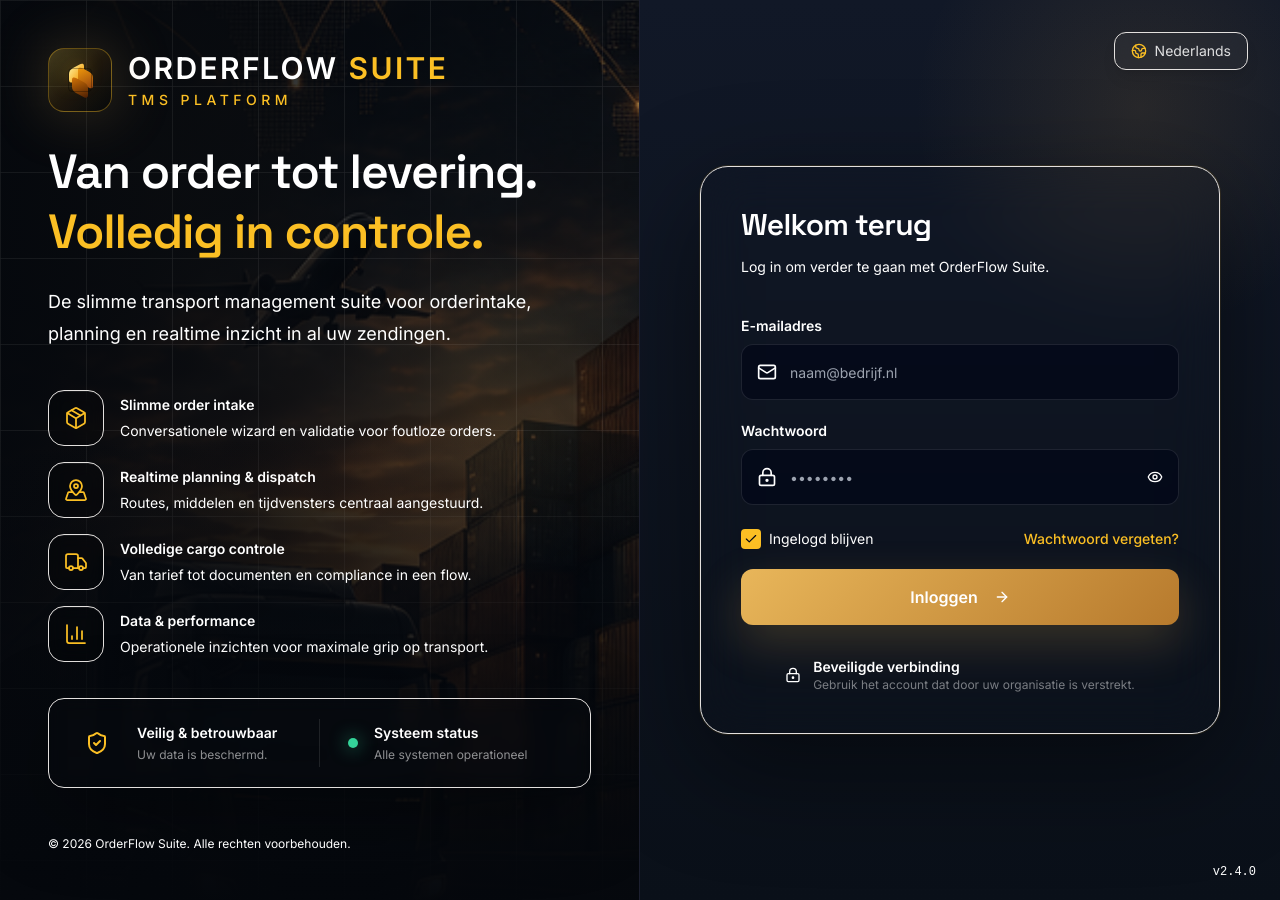
Scenario: Login › shows error on failed login
The image size is (1280, 900).
Type "bad@test.nl" into the field labelled "E-mailadres" at (960, 372), box [741, 344, 1179, 400]
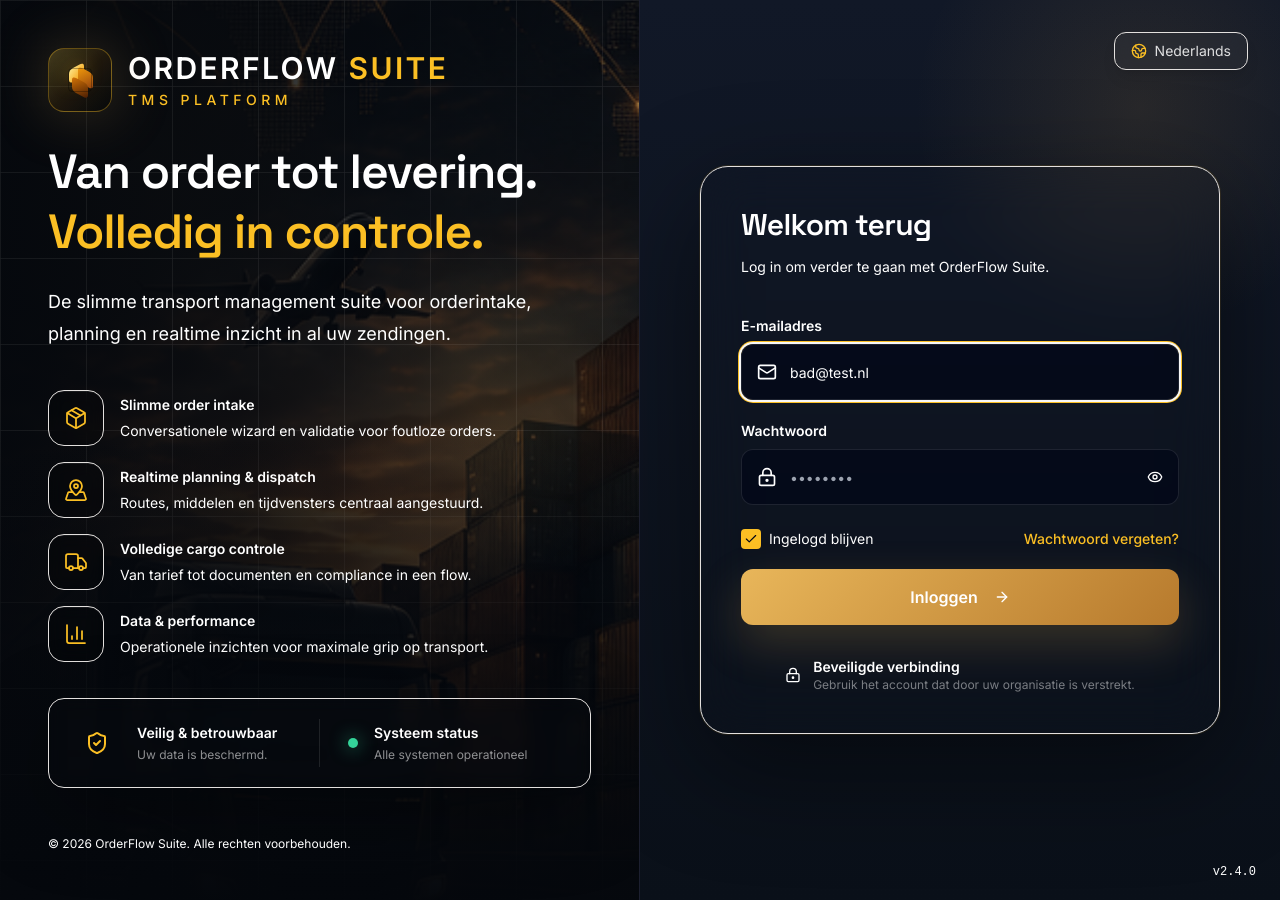
Type "wrong" into the password field labelled "Wachtwoord" at (960, 477), box [741, 449, 1179, 505]
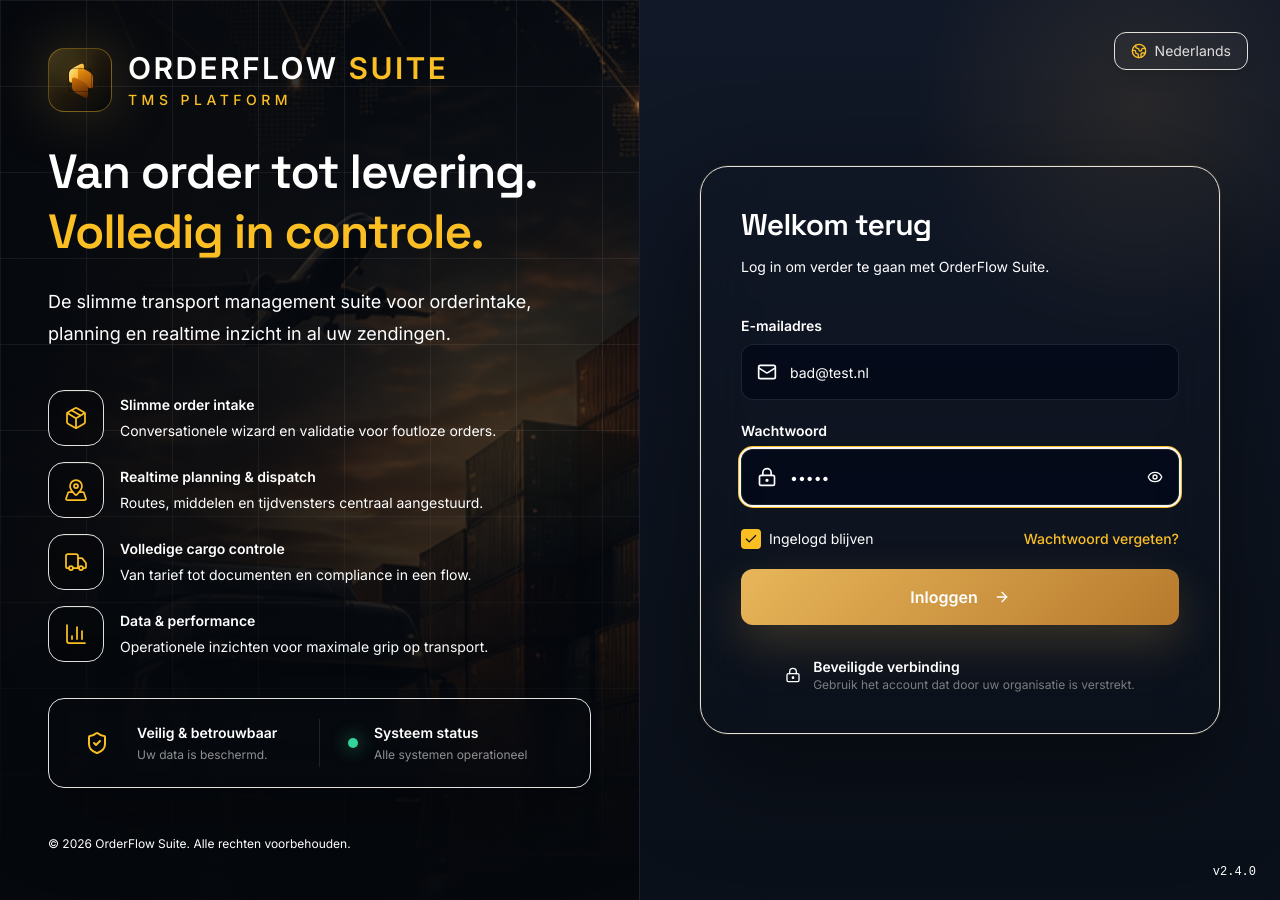
Click the submit button at (960, 597), box [741, 569, 1179, 625]
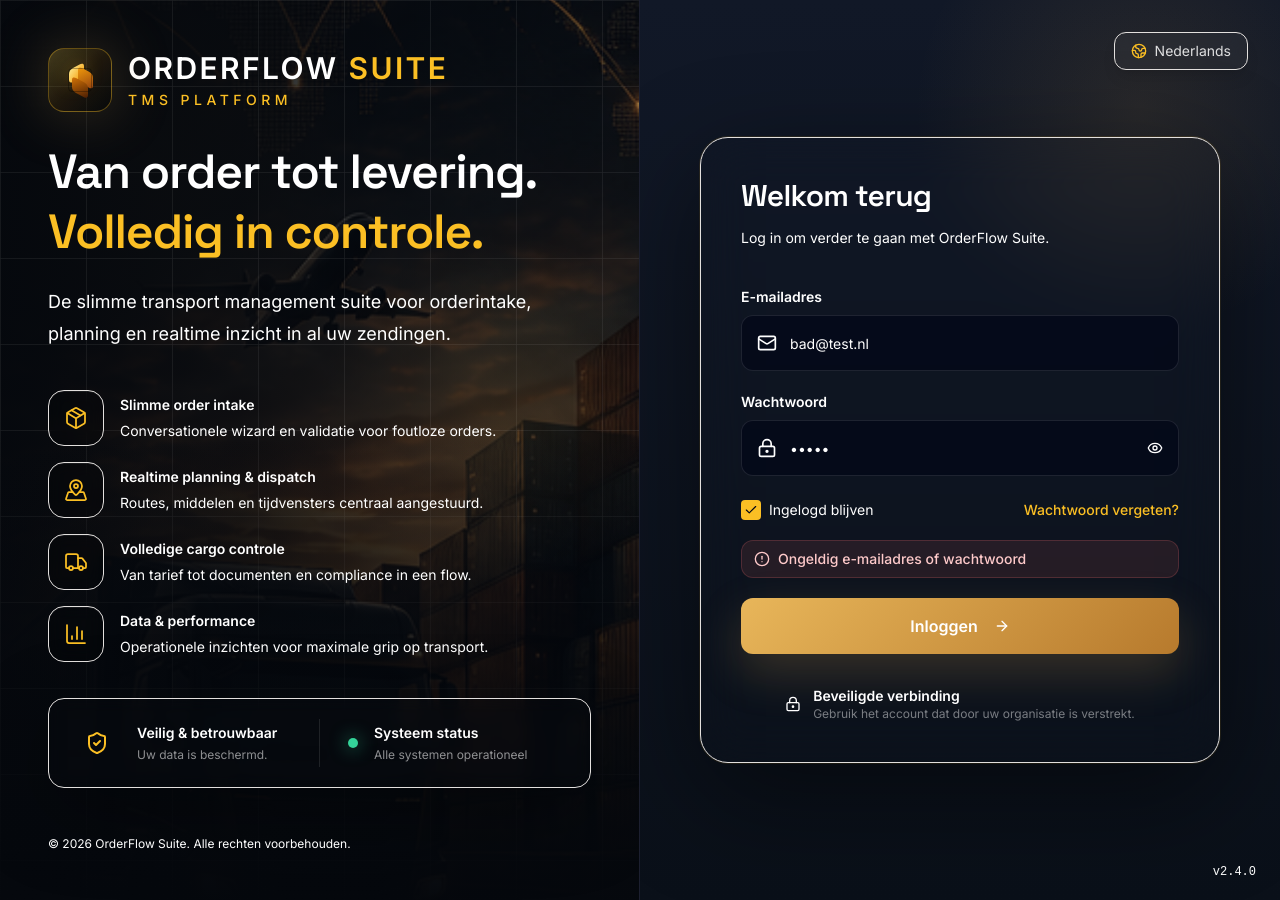
Expected: the text "Ongeldig e-mailadres of wachtwoord" is shown, [778, 549, 1026, 569]
